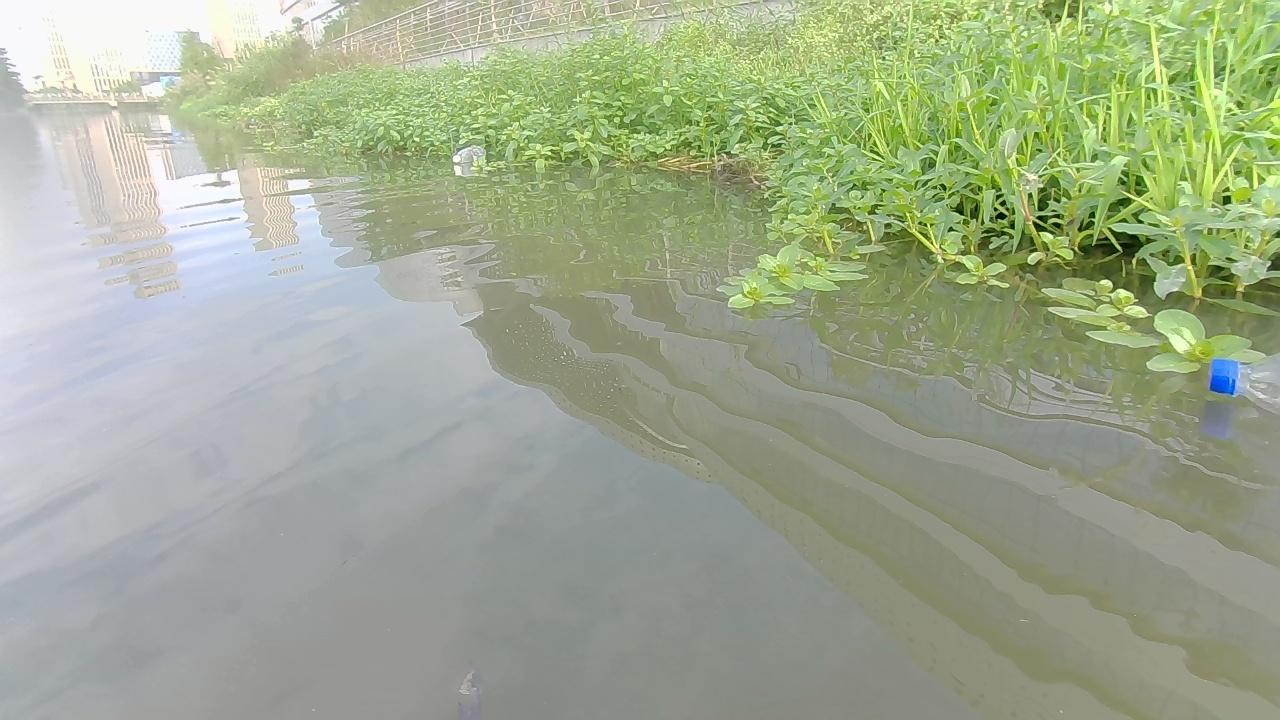bottle: (1201, 346, 1279, 400), (448, 142, 485, 166)
